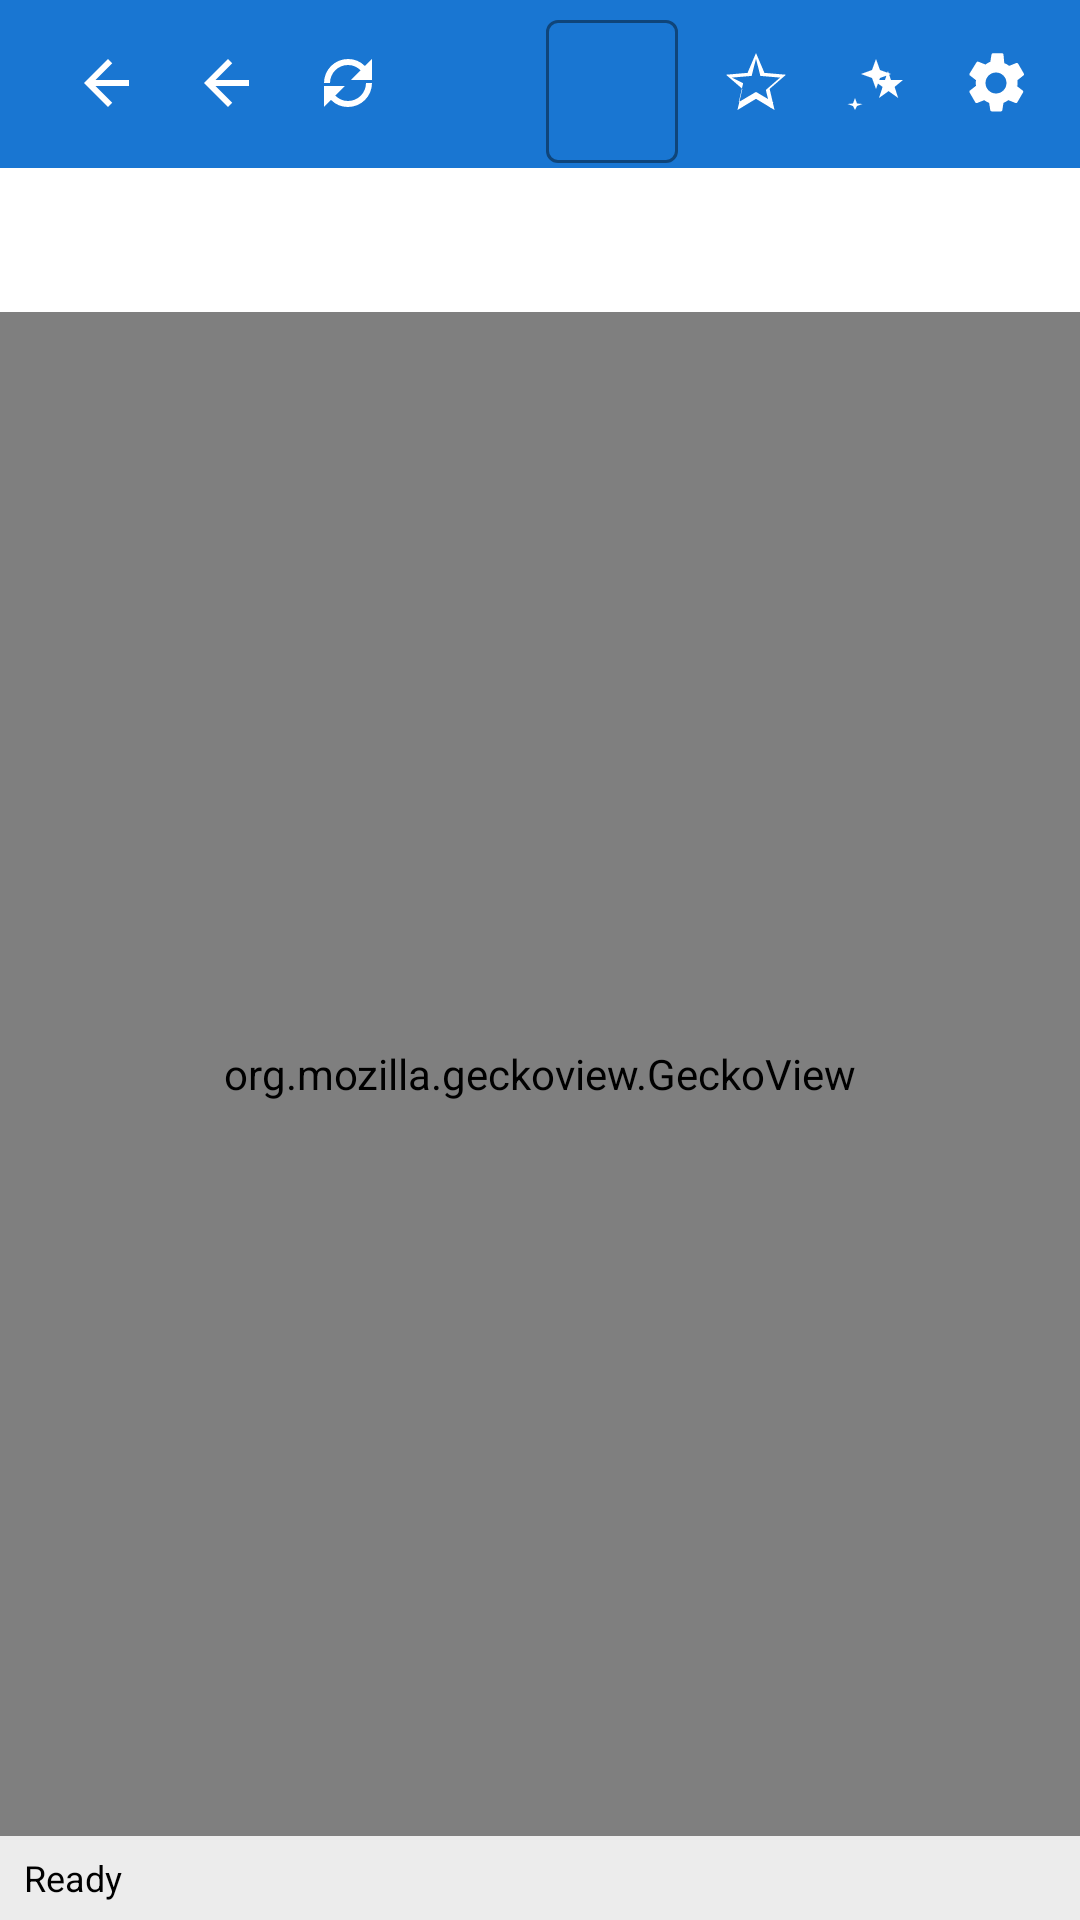

Screen size 1080 × 1920. Icon name, then its box in pixels as bbox(x1, y1, x2, y2):
AI Assistant: bbox(848, 59, 903, 110)
Back: bbox(84, 59, 129, 107)
Bookmark: bbox(726, 53, 786, 110)
Reload: bbox(324, 59, 372, 107)
Settings: bbox(969, 53, 1024, 112)
